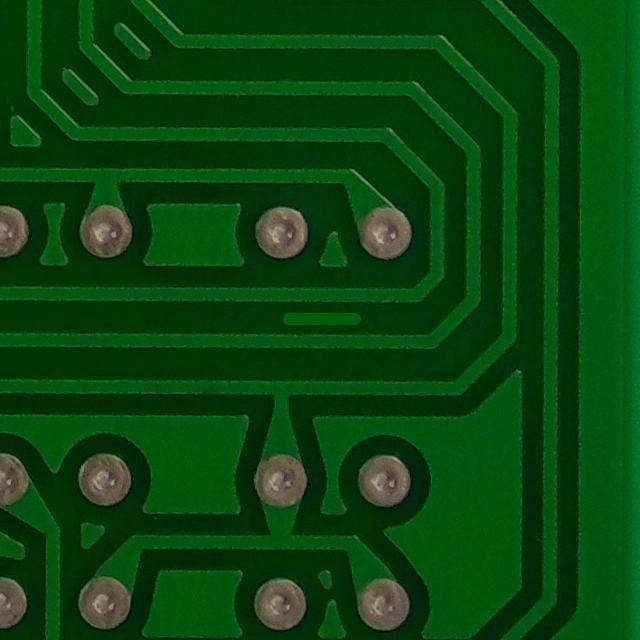spurious_copper: (258, 295, 383, 346)
